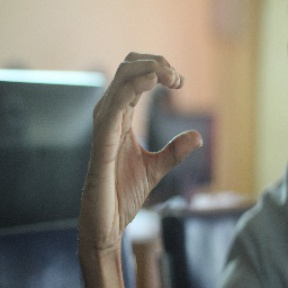C: (88, 47, 211, 169)
